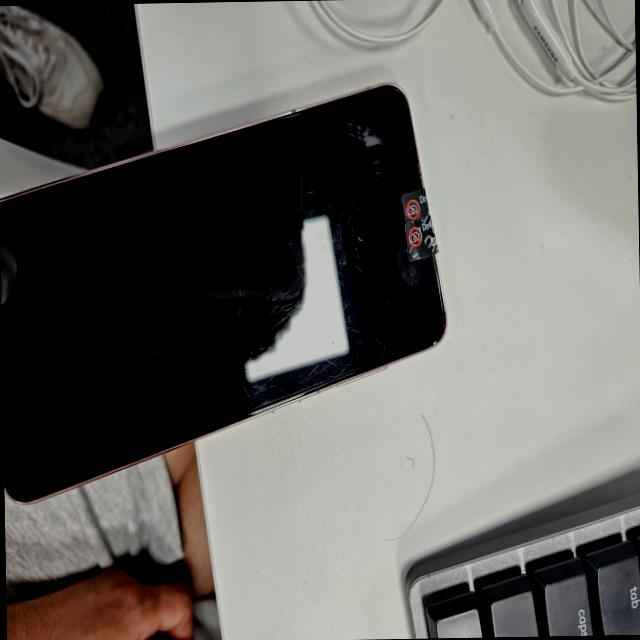phone: (0, 83, 449, 505)
removed_sticker: (404, 215, 436, 262)
sticker: (400, 188, 428, 222)
